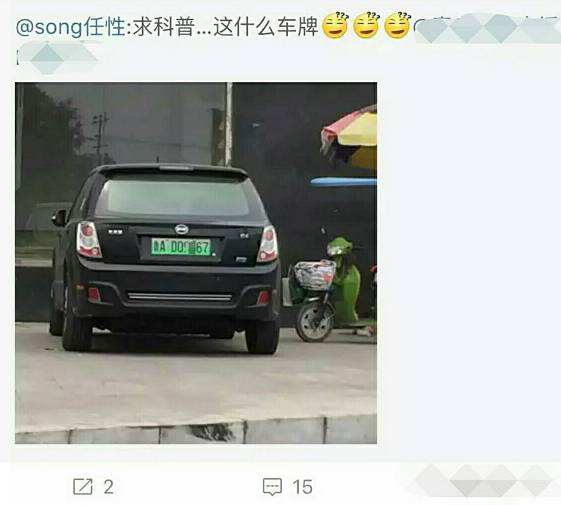plate: (143, 226, 222, 266)
